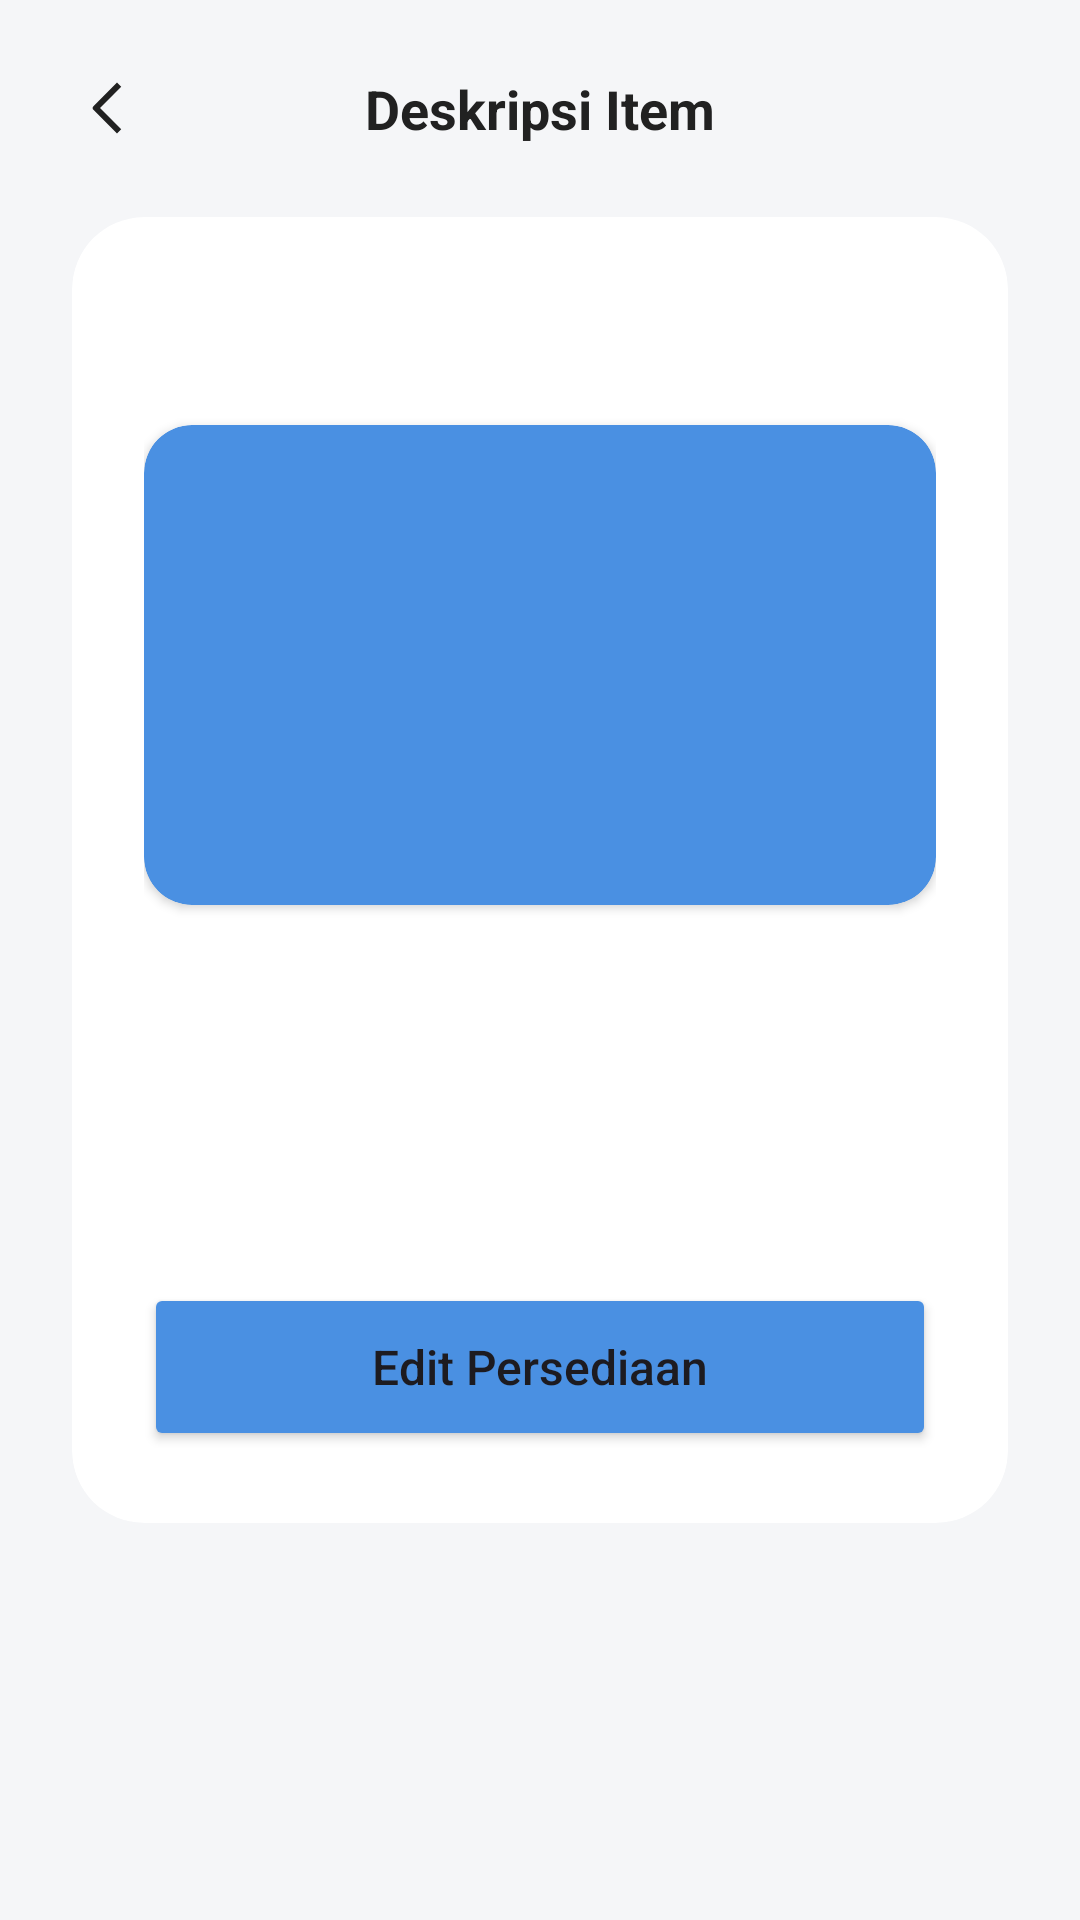

Named icons in this screenshot (1080×1920) and their centers, (x,y):
back: (106,108)
